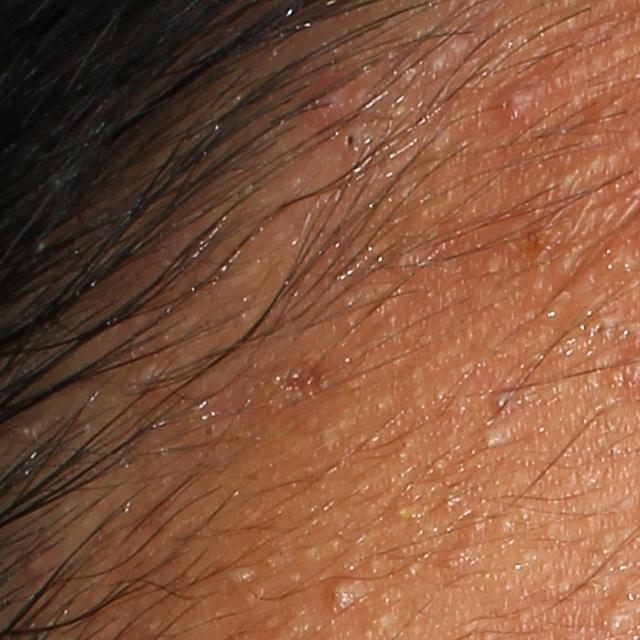comedo: (123, 350, 170, 397), (338, 112, 383, 160), (324, 570, 369, 617), (596, 602, 636, 639), (389, 240, 425, 277), (478, 418, 512, 452), (218, 563, 255, 593), (455, 513, 488, 544), (367, 606, 395, 640), (392, 490, 419, 524), (495, 506, 520, 537), (430, 52, 450, 74)
papule: (300, 67, 362, 120), (496, 78, 543, 120), (18, 544, 58, 580)
